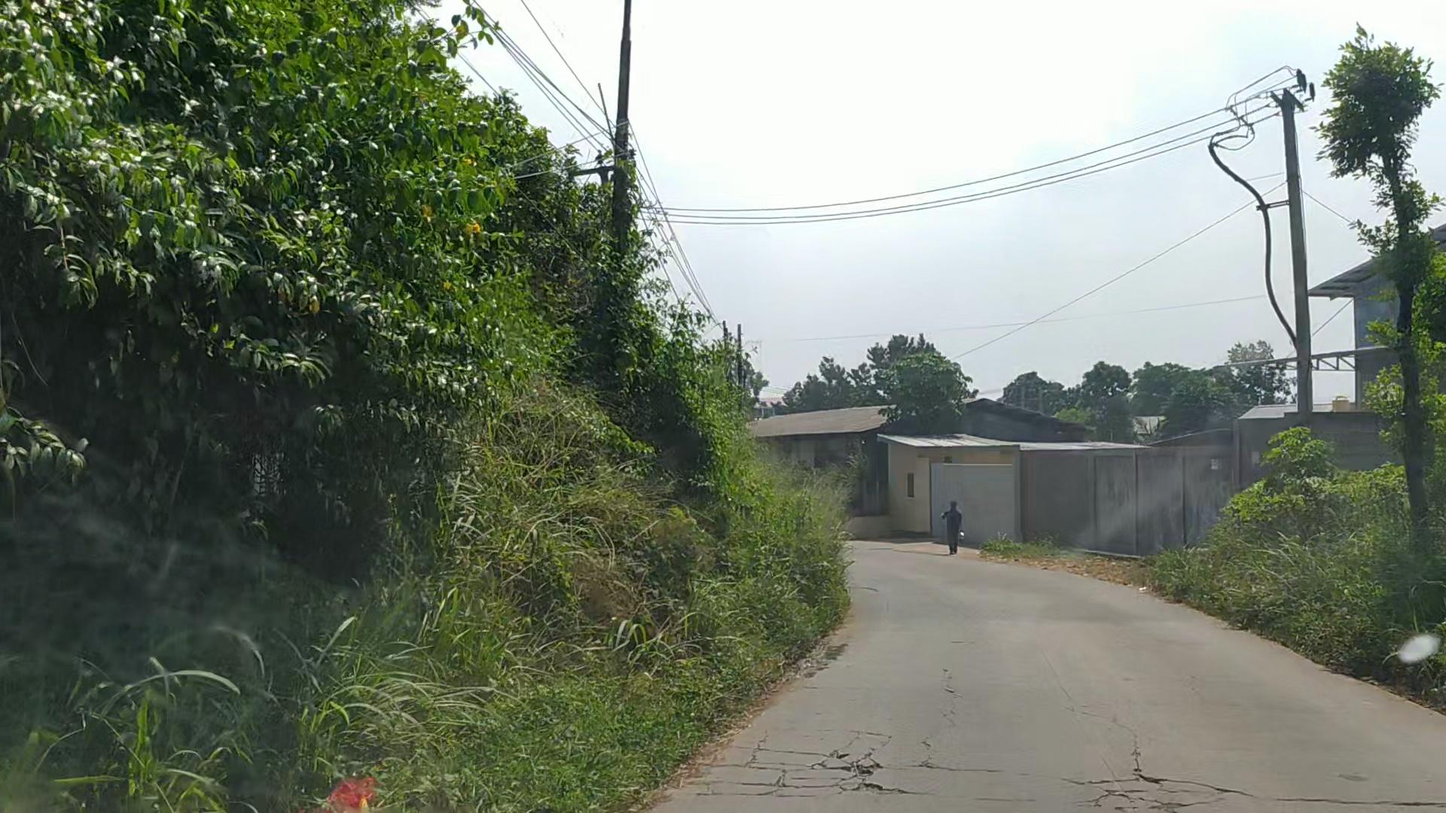pothole: (810, 760, 917, 797)
